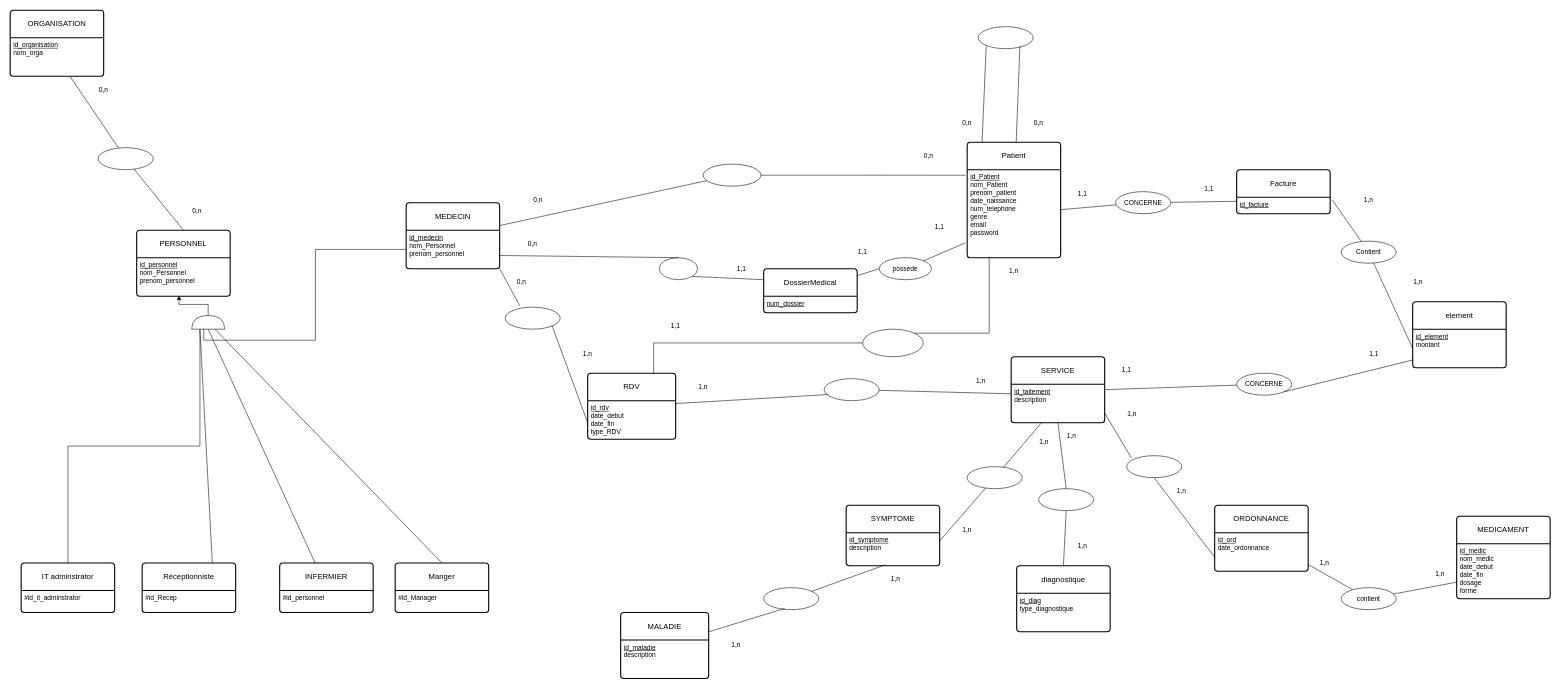
Image size: 1560x688. Some labels were removed from this diagram. Here are the shapes that lost their labels. From the top down, the centre of each, then its label:
the point at 1005,37: EN RELATION
the point at 125,158: POSSEDE
the point at 732,175: suivre
the point at 678,268: règle
the point at 532,318: consulté
the point at 892,343: prend
the point at 851,389: liéer
the point at 994,477: comprend
the point at 1154,466: préscrit
the point at 1066,499: a fait
the point at 791,598: associé
